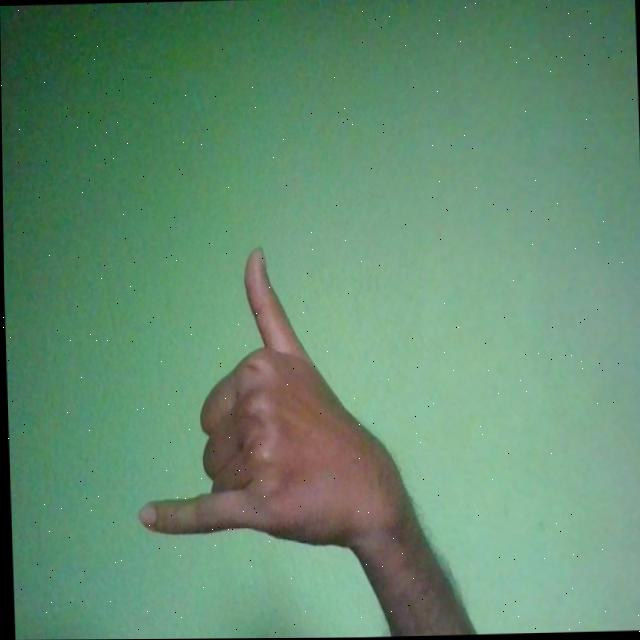Call Me: (130, 246, 417, 555)
